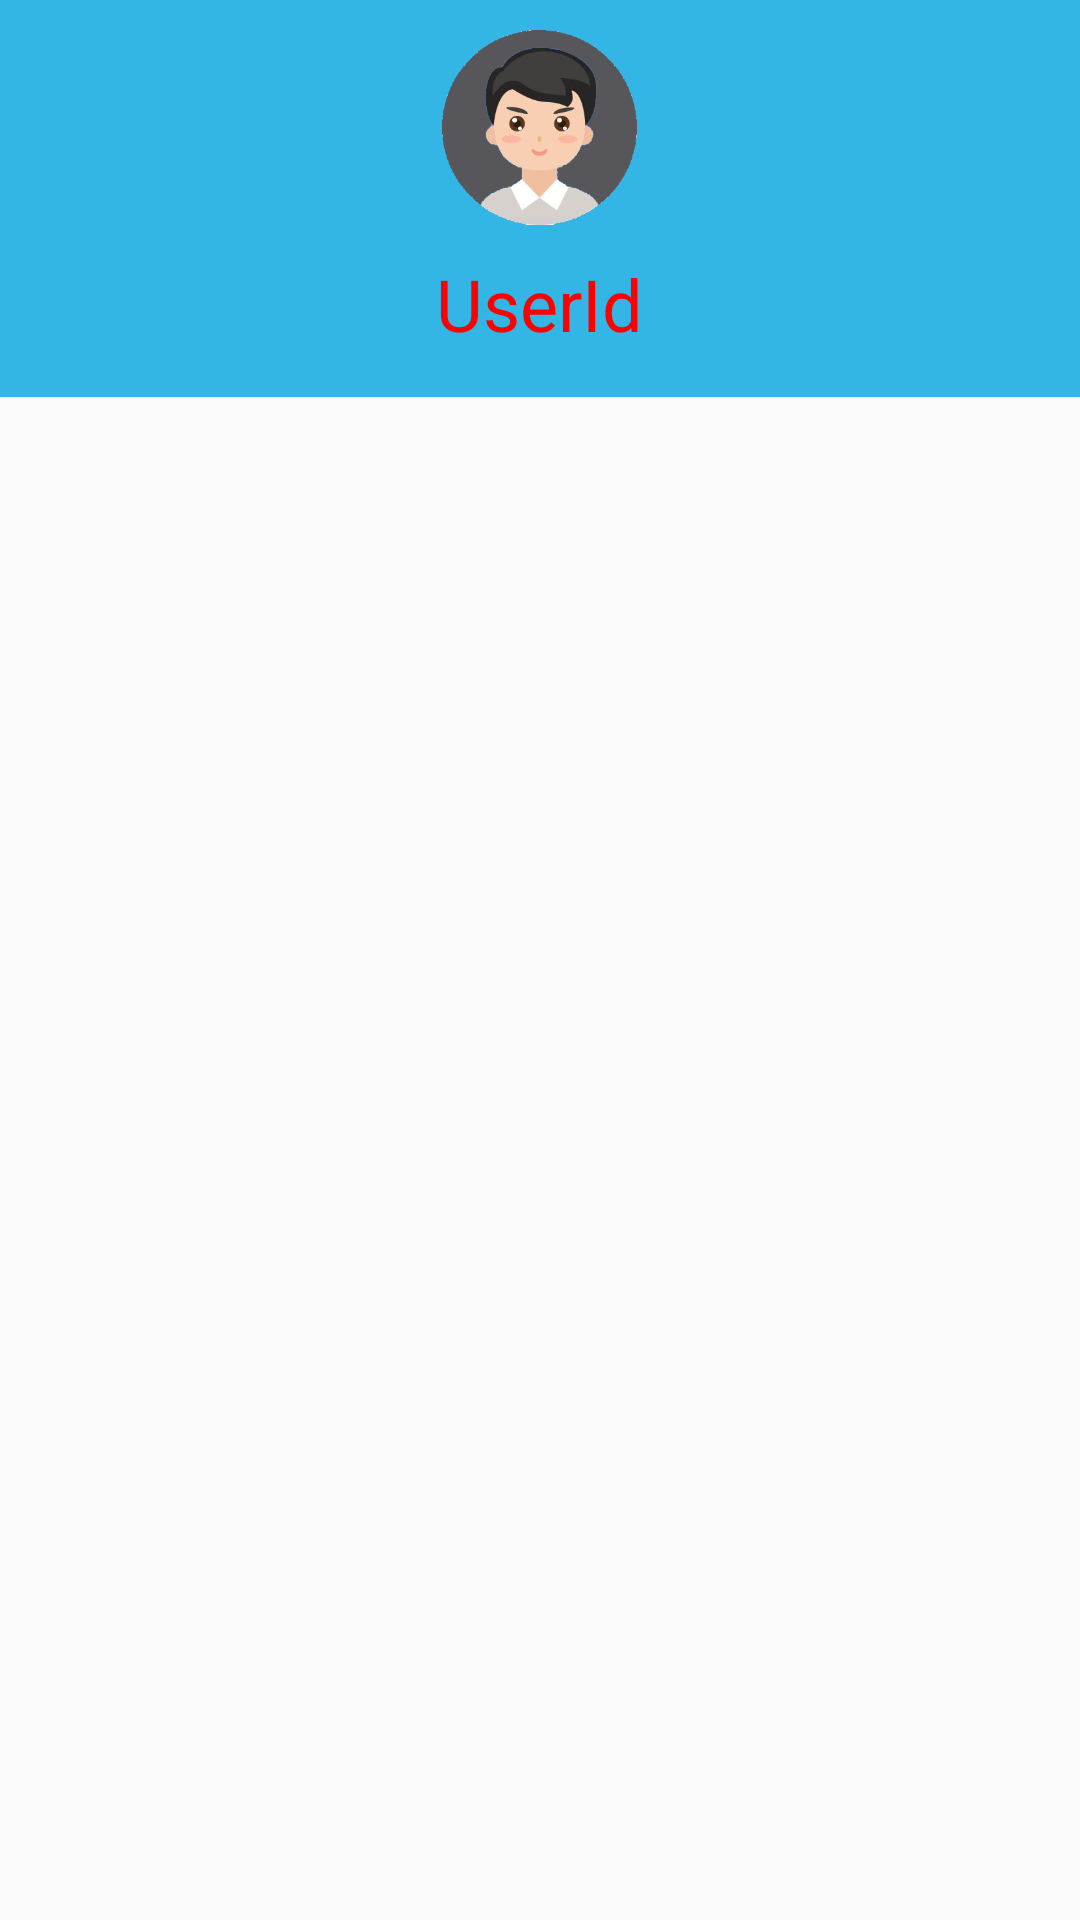

Locate icon controls on the screen. Image size 1080×1920, boxes as (x1, y1, x2, y2).
touxiang: (442, 30, 637, 225)
